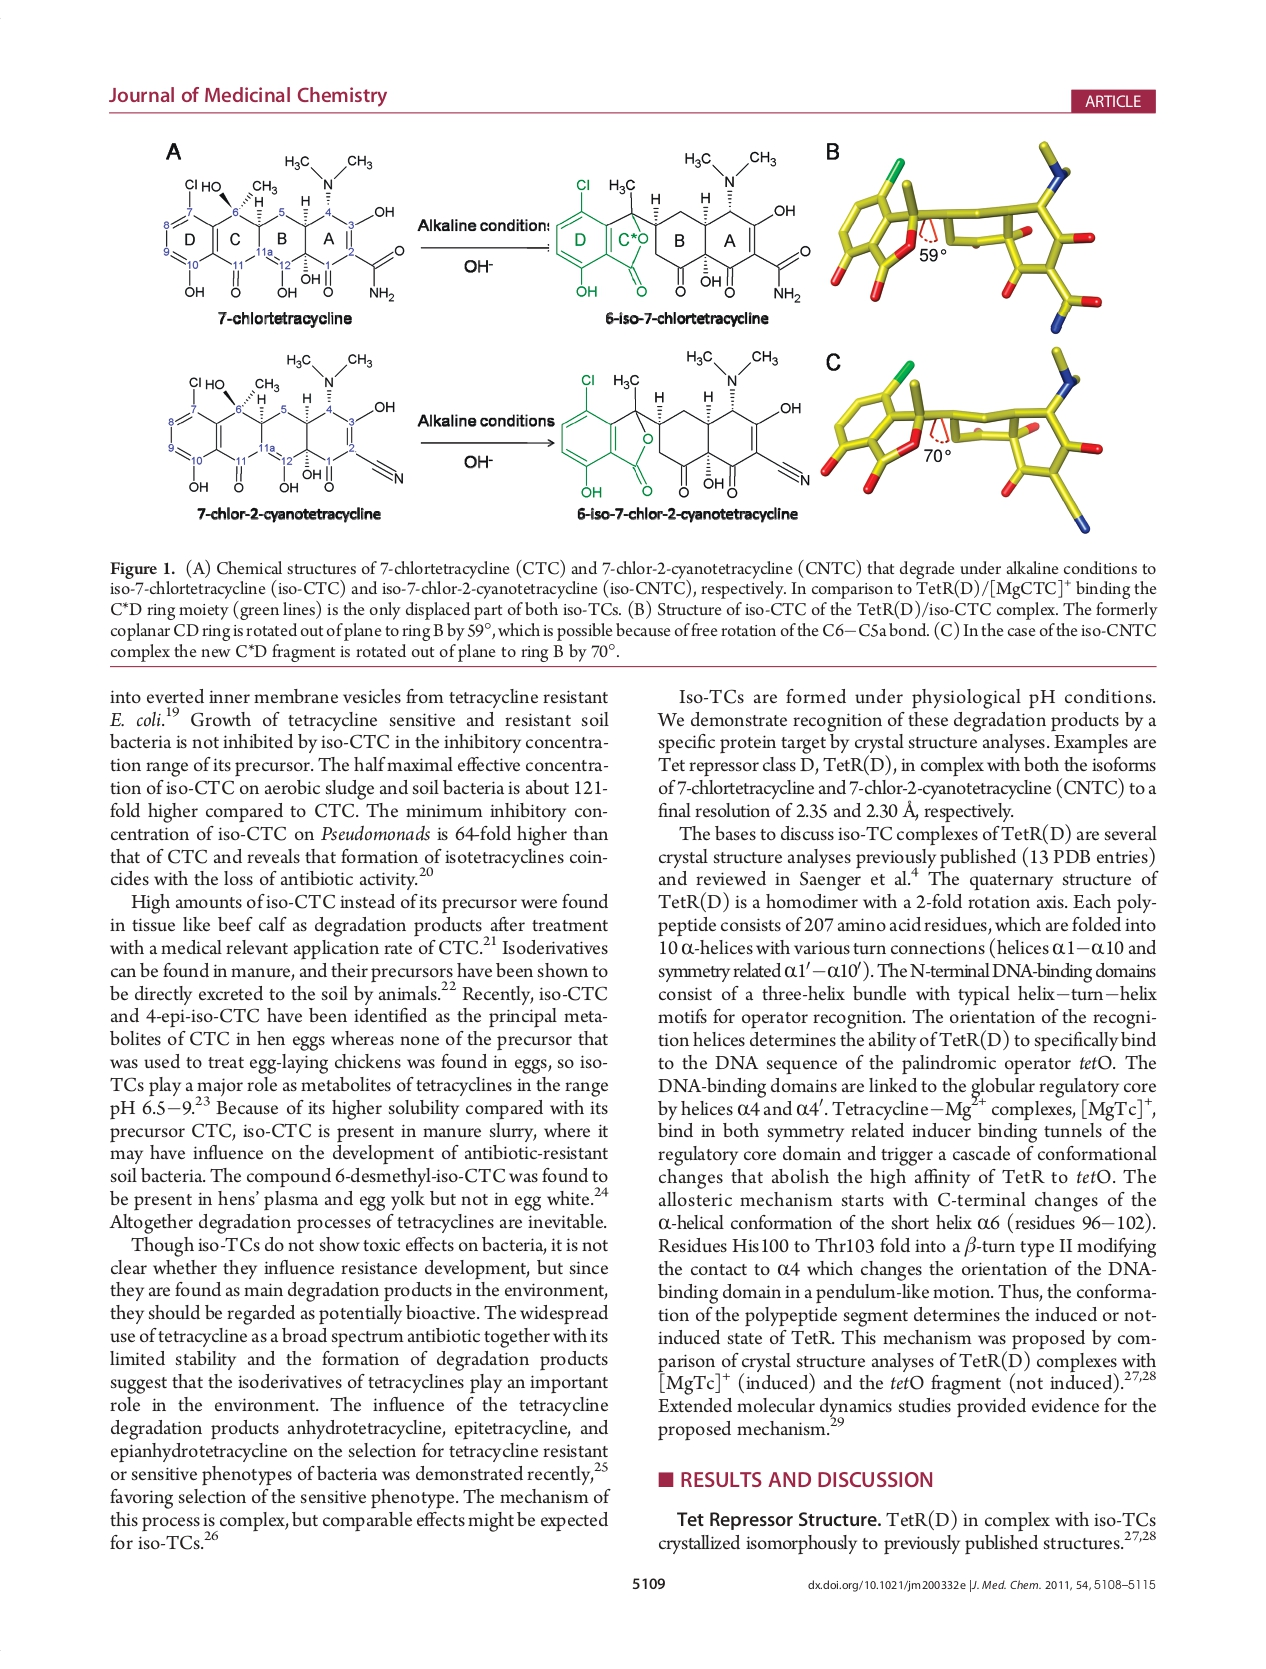exist_molecular: (553, 148, 813, 305), (557, 344, 813, 501), (161, 150, 410, 306), (162, 348, 407, 496)
